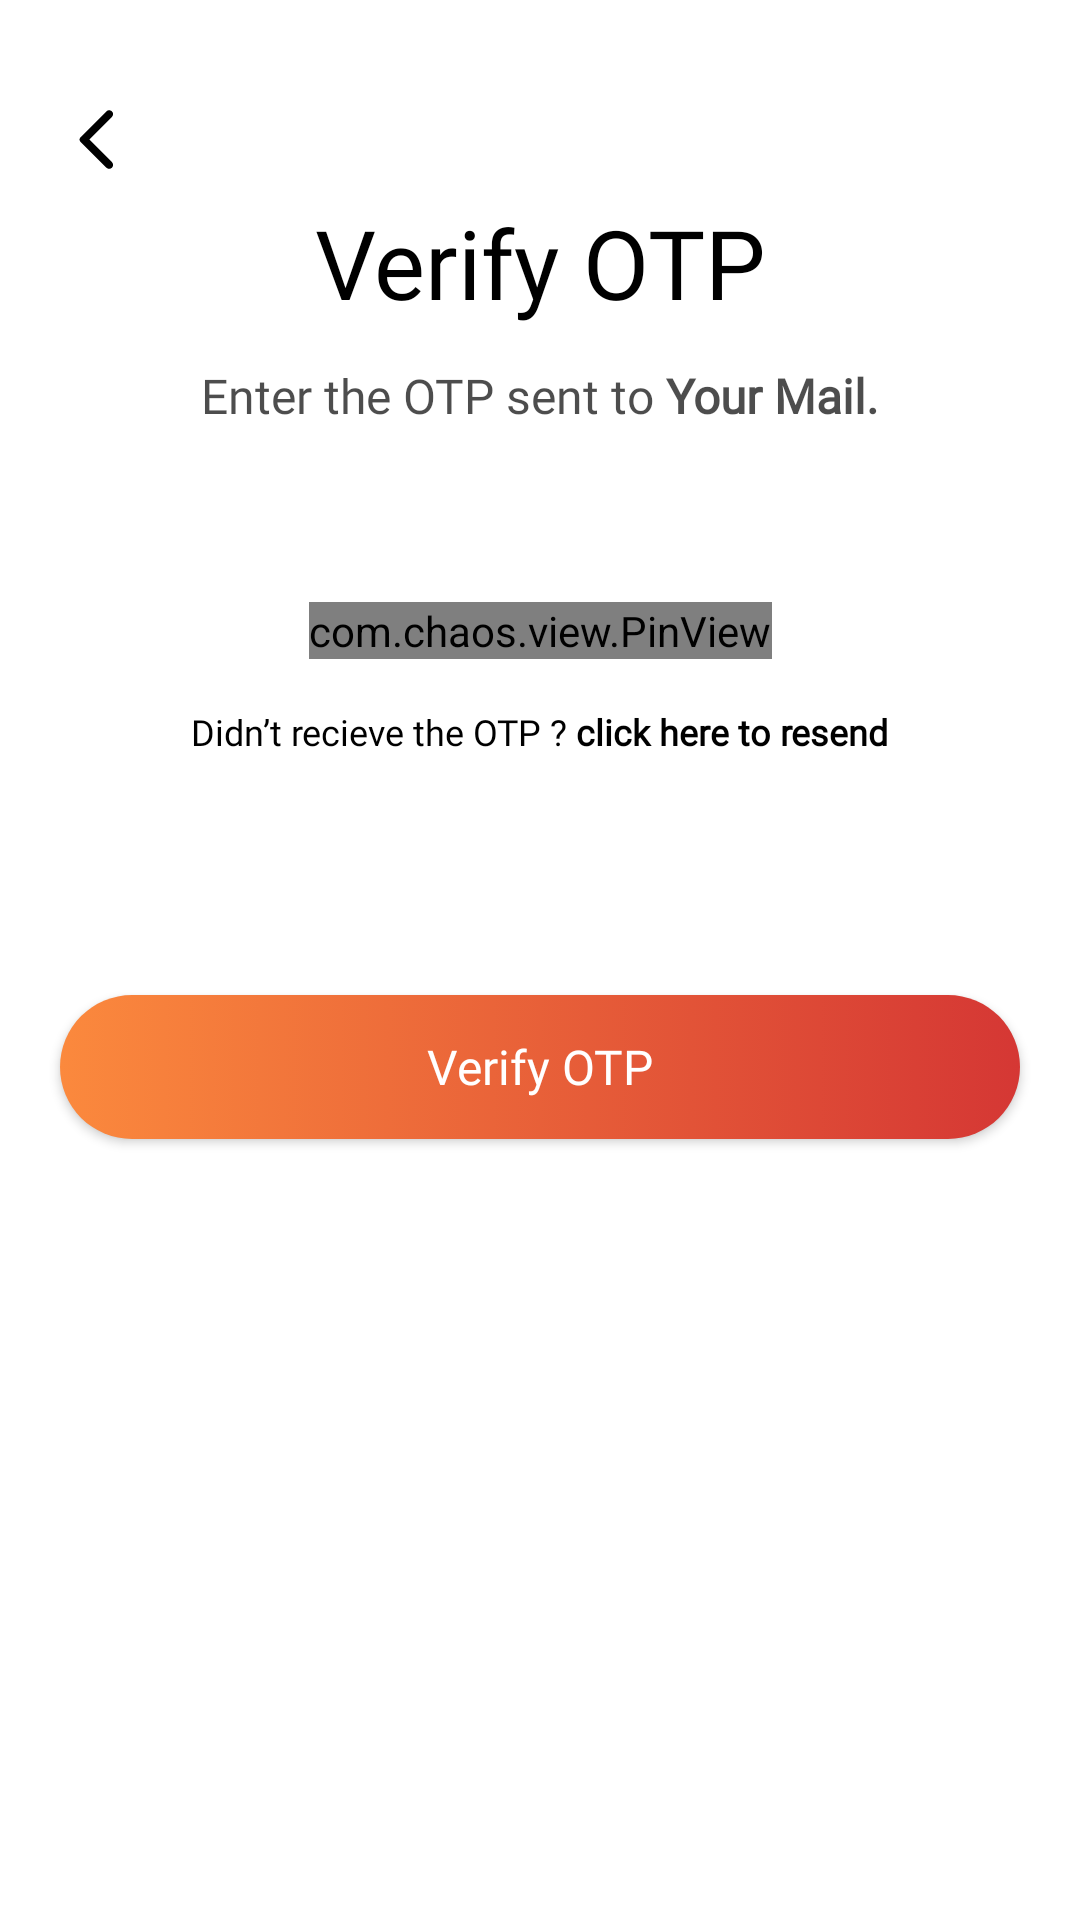

Screen size 1080 × 1920. Icon name, then its box in pixels as bbox=(x1, y1, x2, y2):
arrow back: bbox=(79, 110, 113, 169)
